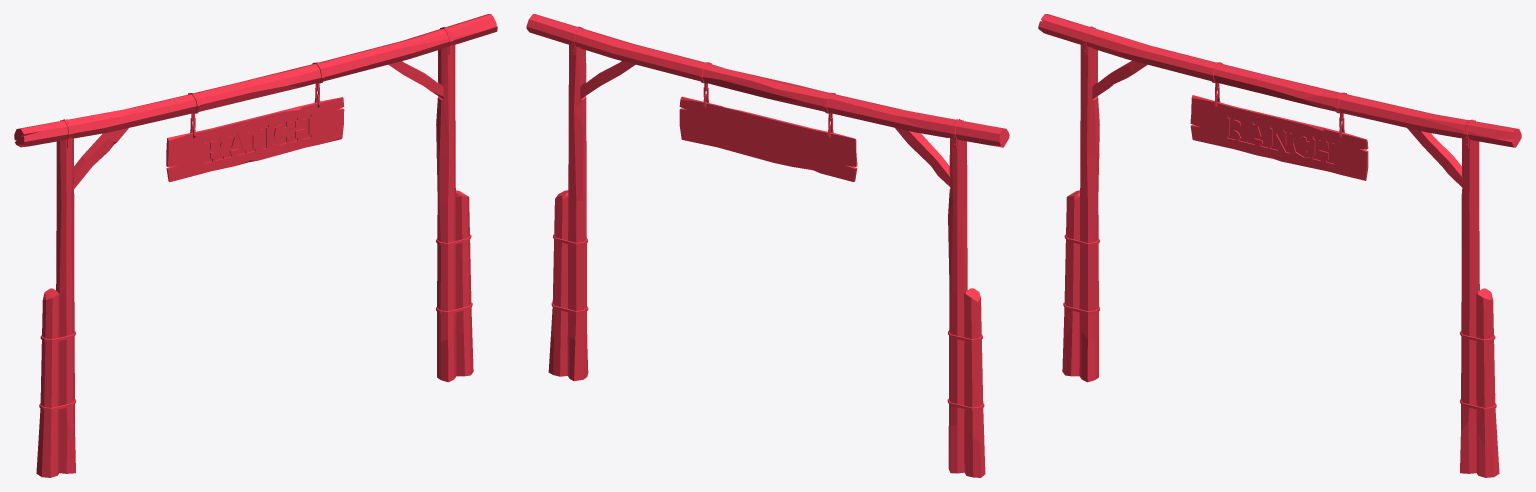
File: SM_Sign_Ranch_Text.fbx
3 renders of one model, left to right at view 1: azimuth 30°, elevation 25°; view 2: azimuth 150°, elevation 25°; view 3: azimuth 330°, elevation 25°, orthographic.
Parts seen in each view (by area): view 1: sign-ranch-frame, sign-ranch-sign-text; view 2: sign-ranch-frame, sign-ranch-sign-text; view 3: sign-ranch-frame, sign-ranch-sign-text.
Boxes of the visible parts, <box> form: sign-ranch-frame: <box>14,14,497,477</box>; sign-ranch-sign-text: <box>166,97,344,181</box>; sign-ranch-frame: <box>526,14,1009,477</box>; sign-ranch-sign-text: <box>679,96,857,181</box>; sign-ranch-frame: <box>1038,14,1521,477</box>; sign-ranch-sign-text: <box>1190,95,1368,180</box>.
Bounding box in the file's own units: 6.71 × 4.74 × 0.2953.
